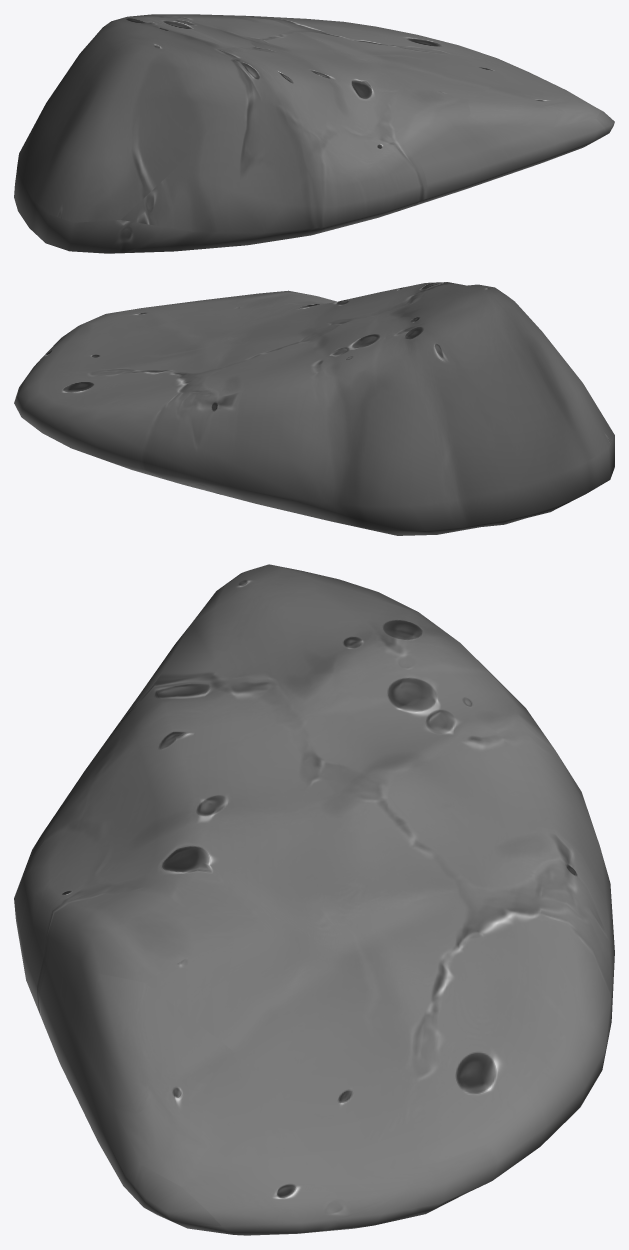
Rendered from SM_ENV_stone_06.fbx.
3 renders of one model, top to bottom at view 1: azimuth 30°, elevation 25°; view 2: azimuth 150°, elevation 25°; view 3: azimuth 270°, elevation 25°, orthographic. The views are drawn at different scales.
Parts seen in each view (by area): view 1: SM_ENV_stone_06_LOD0; view 2: SM_ENV_stone_06_LOD0; view 3: SM_ENV_stone_06_LOD0.
Boxes of the visible parts, left/top/right/bottom form: SM_ENV_stone_06_LOD0: left=14, top=14, right=614, bottom=253; SM_ENV_stone_06_LOD0: left=14, top=282, right=614, bottom=535; SM_ENV_stone_06_LOD0: left=14, top=564, right=614, bottom=1235.
Size of what is drawn, in the model's own units: 390 by 124 by 219.
